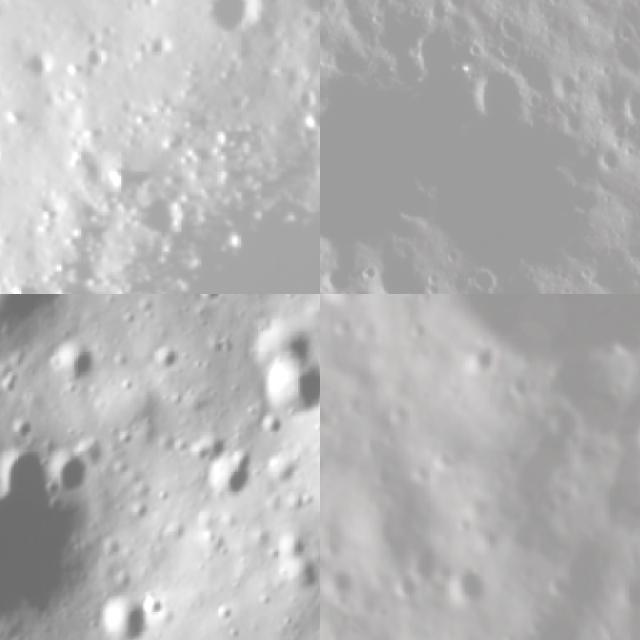crater: (0, 500, 94, 640), (177, 0, 280, 56), (130, 174, 204, 243), (253, 357, 320, 430), (464, 60, 530, 129), (404, 22, 462, 93), (242, 316, 314, 373), (0, 435, 53, 501), (274, 530, 320, 601), (204, 447, 256, 507), (0, 294, 67, 337), (49, 345, 107, 390), (456, 336, 503, 390), (96, 596, 153, 640), (442, 558, 489, 608), (50, 449, 95, 497), (185, 428, 227, 470), (320, 564, 361, 603), (590, 139, 630, 176), (609, 34, 640, 81), (301, 98, 320, 172), (208, 592, 244, 629), (387, 570, 424, 606), (616, 83, 640, 137), (553, 104, 590, 138), (153, 340, 187, 377), (320, 257, 352, 294), (463, 262, 499, 294), (142, 587, 172, 621), (320, 294, 379, 309), (193, 294, 225, 309)
